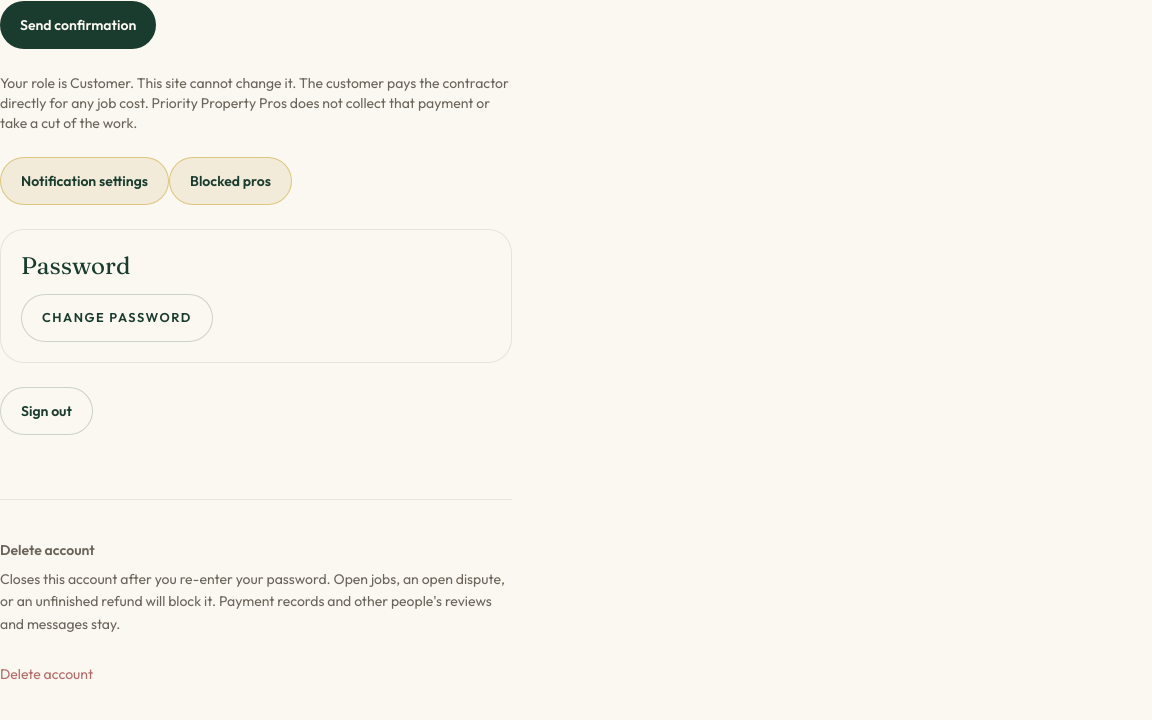
Delete account confirmation gating › shows Delete account only on account settings, below Sign out
This screenshot has width=1152, height=720.
(page scrolled)
Click the button "Delete account" at coordinates (47, 674), box [0,652,93,696]
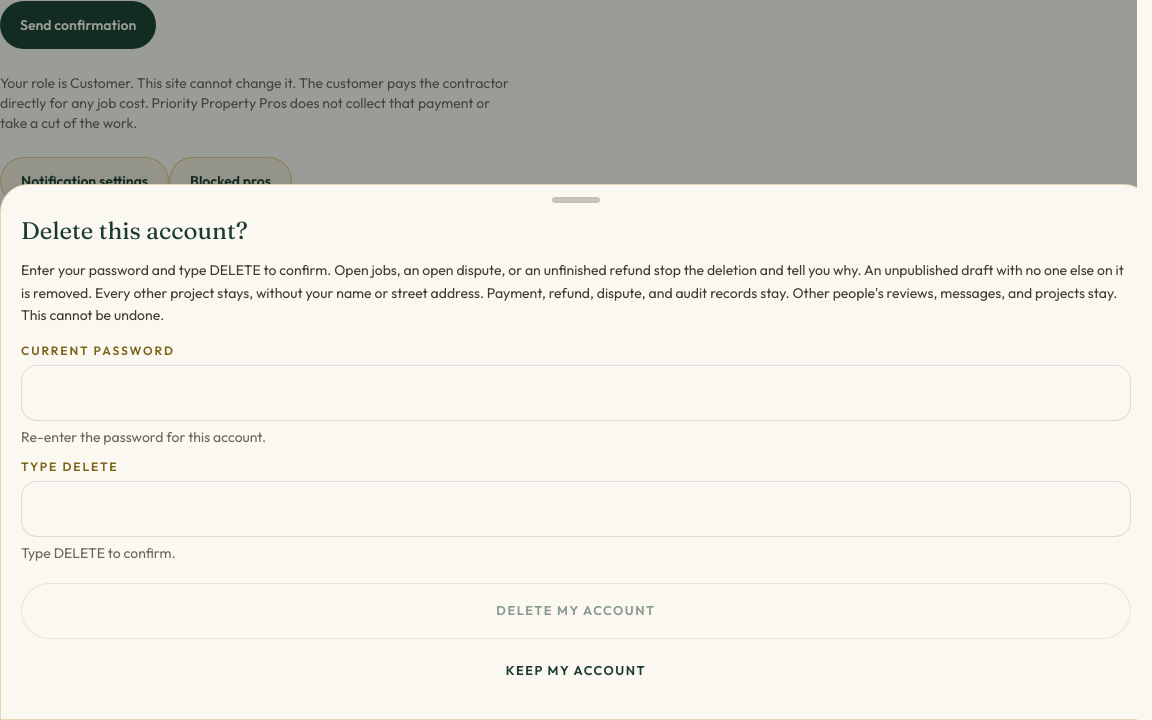
Now the heading "Delete this account?" is shown, box [21,216,248,245]
Now the button "Delete my account" is disabled, box [21,583,1131,639]
